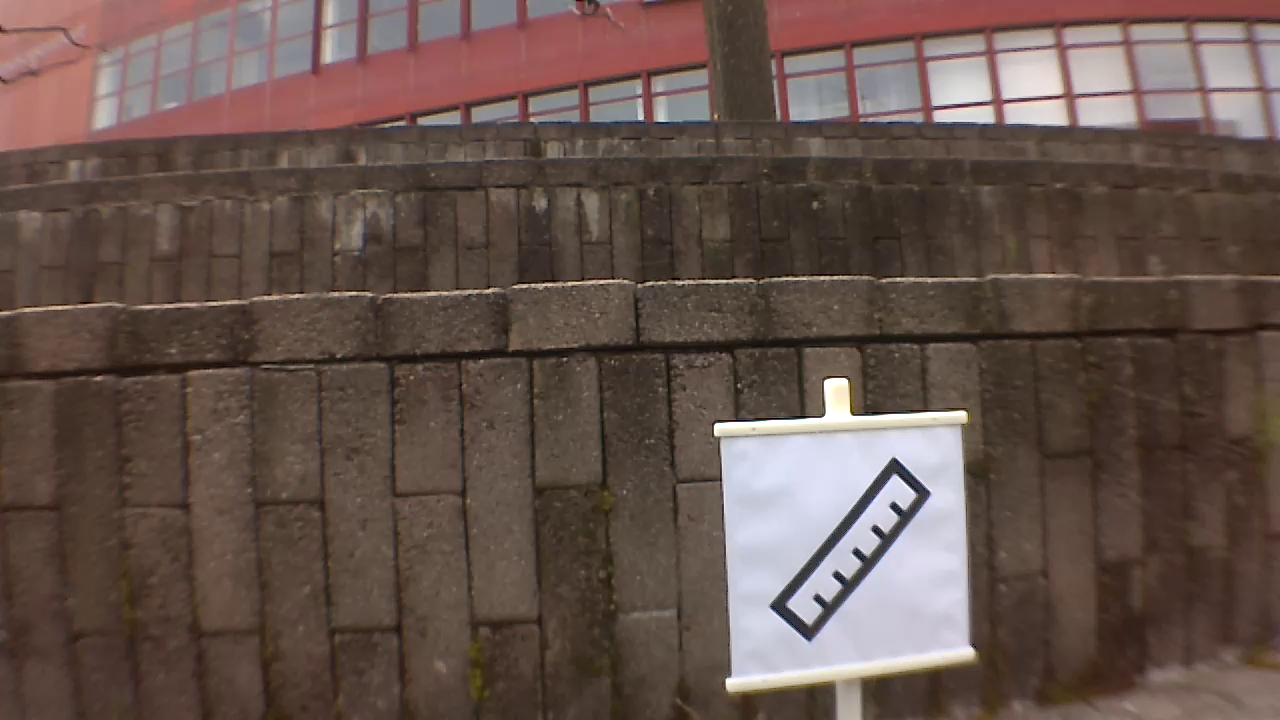ruler: (770, 451, 938, 642)
